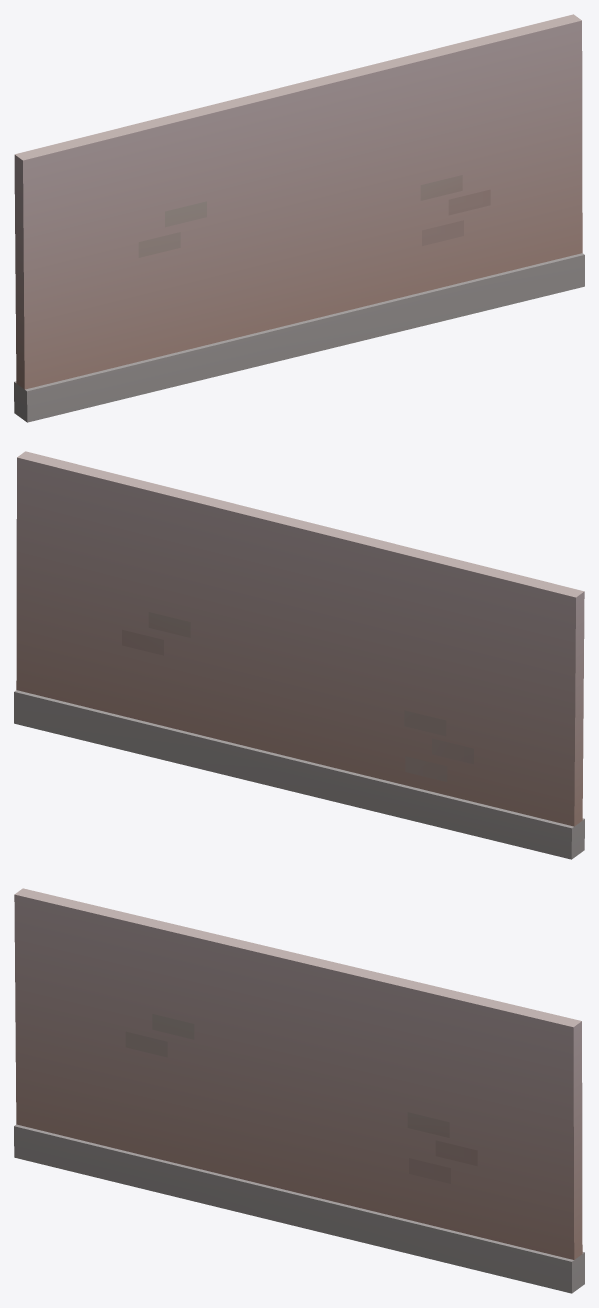
File: Prop_wall.glb
3 views of the same model, one above another, from view 1: azimuth 30°, elevation 25°; view 2: azimuth 150°, elevation 25°; view 3: azimuth 330°, elevation 25° (orthographic).
Visible parts, largest first — view 1: Prop_wall; view 2: Prop_wall; view 3: Prop_wall.
Boxes of the visible parts, x1,y1,x2,y2 form: Prop_wall: (14, 14, 584, 422); Prop_wall: (14, 451, 584, 859); Prop_wall: (14, 888, 584, 1293).
Size of the model in its own units: 0.964 by 0.4354 by 0.039.
